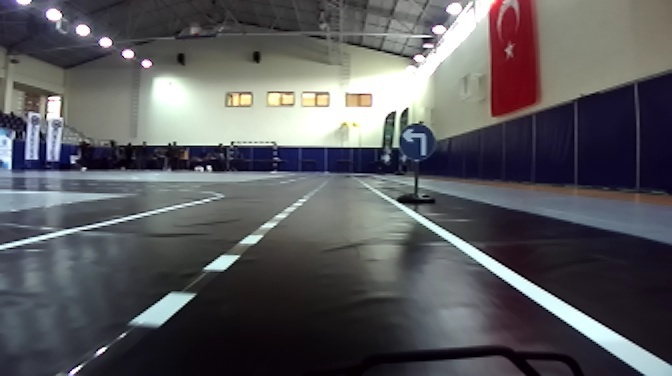sola_donus: (395, 123, 442, 159)
